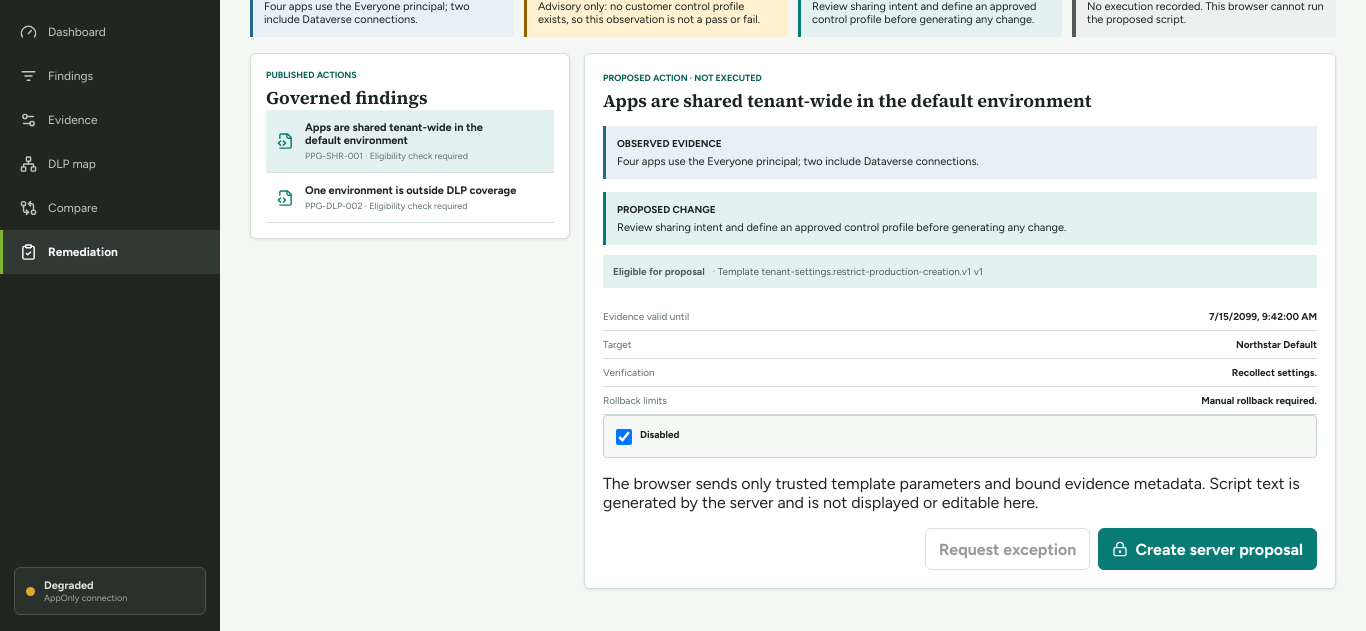
Test: live evidence, export, and remediation journeys › keeps proposal creation separate from independent approval
The width and height of the screenshot is (1366, 631).
(page scrolled)
Click the button "Create server proposal" at (1208, 549), box [1098, 528, 1317, 570]
(page scrolled)
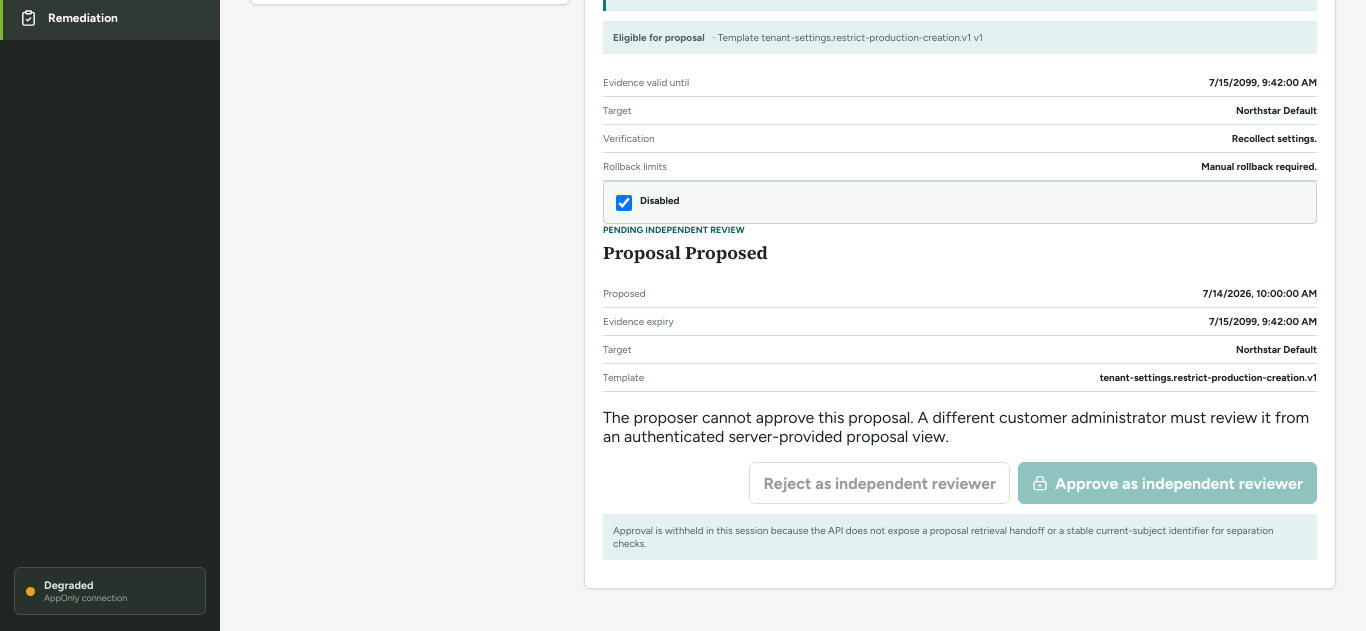
Expected: the field labelled "script" is not shown
Expected: the heading "Proposal Proposed" is shown, [603, 240, 768, 265]
Expected: the button "Approve as independent reviewer" is disabled, [1018, 462, 1317, 504]
